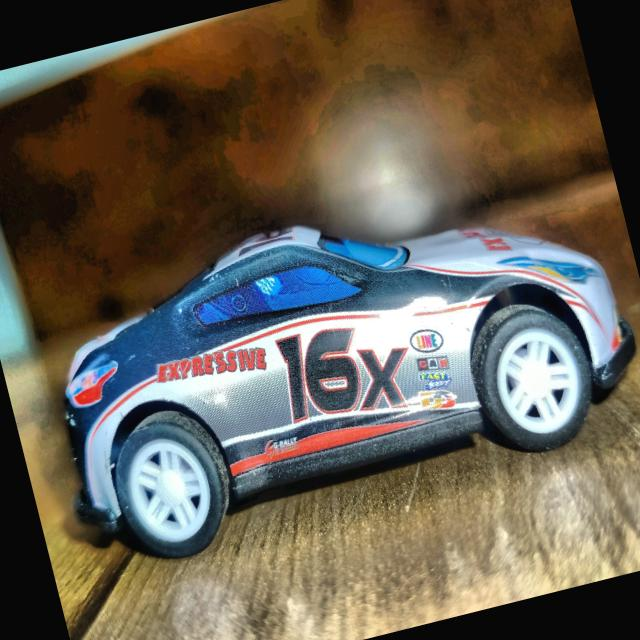Car: (24, 154, 640, 578)
